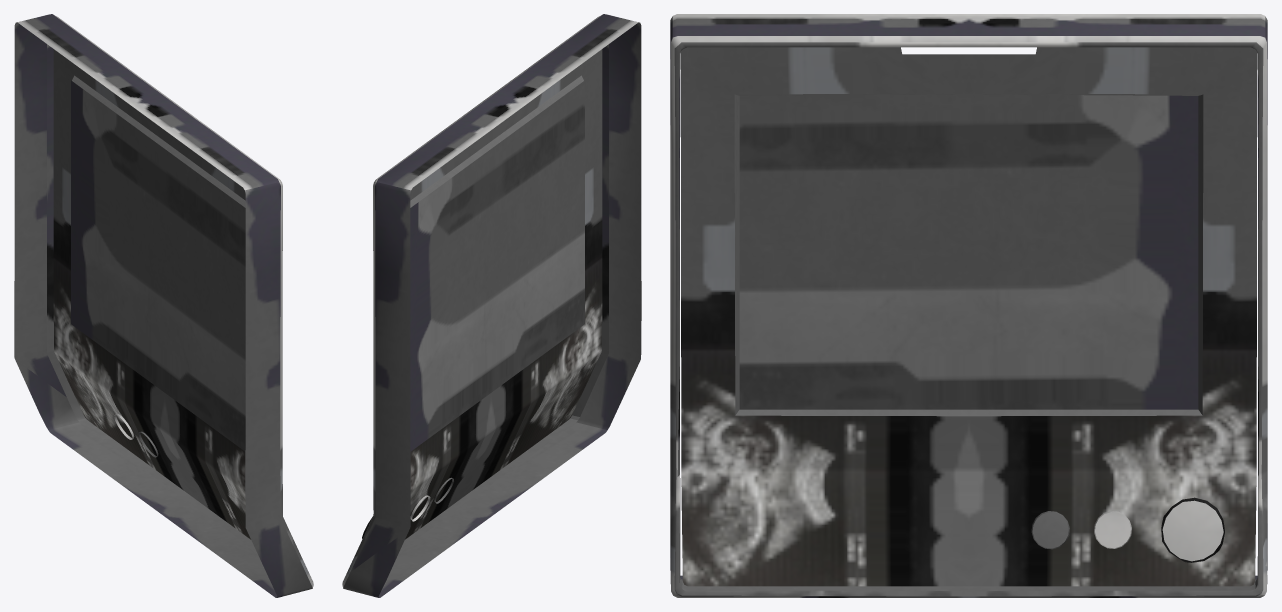
File: SM_ECG_Monitor_LOD0.fbx
The picture shows the model from 3 angles, left to right: view 1: azimuth 30°, elevation 25°; view 2: azimuth 150°, elevation 25°; view 3: azimuth 270°, elevation 25°; orthographic projection. The views are drawn at different scales.
Visible parts, largest first — view 1: SM_ECG_Monitor_LOD0; view 2: SM_ECG_Monitor_LOD0; view 3: SM_ECG_Monitor_LOD0.
Part boxes in pixels (x1,y1,x2,y2): SM_ECG_Monitor_LOD0: (14,14,313,597); SM_ECG_Monitor_LOD0: (342,14,641,597); SM_ECG_Monitor_LOD0: (670,14,1267,597).
Size of the model in its own units: 7.11 by 39.6 by 39.64.
